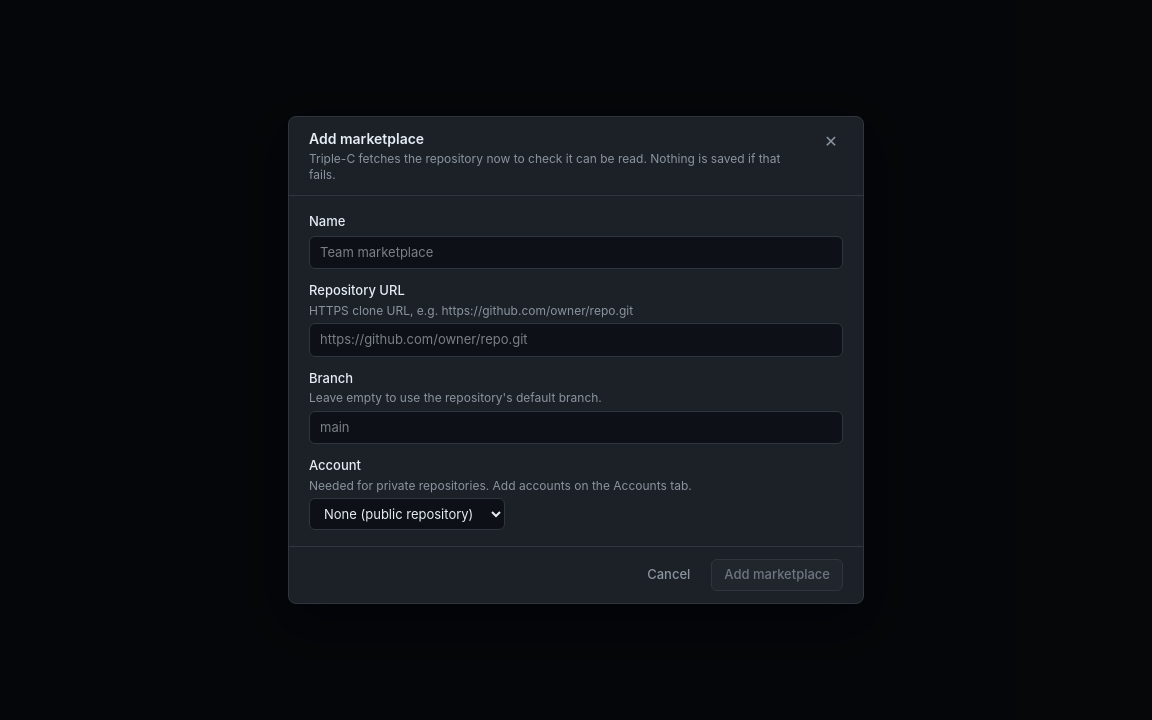
Test: AddMarketplaceModal › shows the backend error and stays open
This screenshot has width=1152, height=720.
Type "x" into the field labelled "Name".
click(576, 252); type("x")  # box [309,236,843,269]
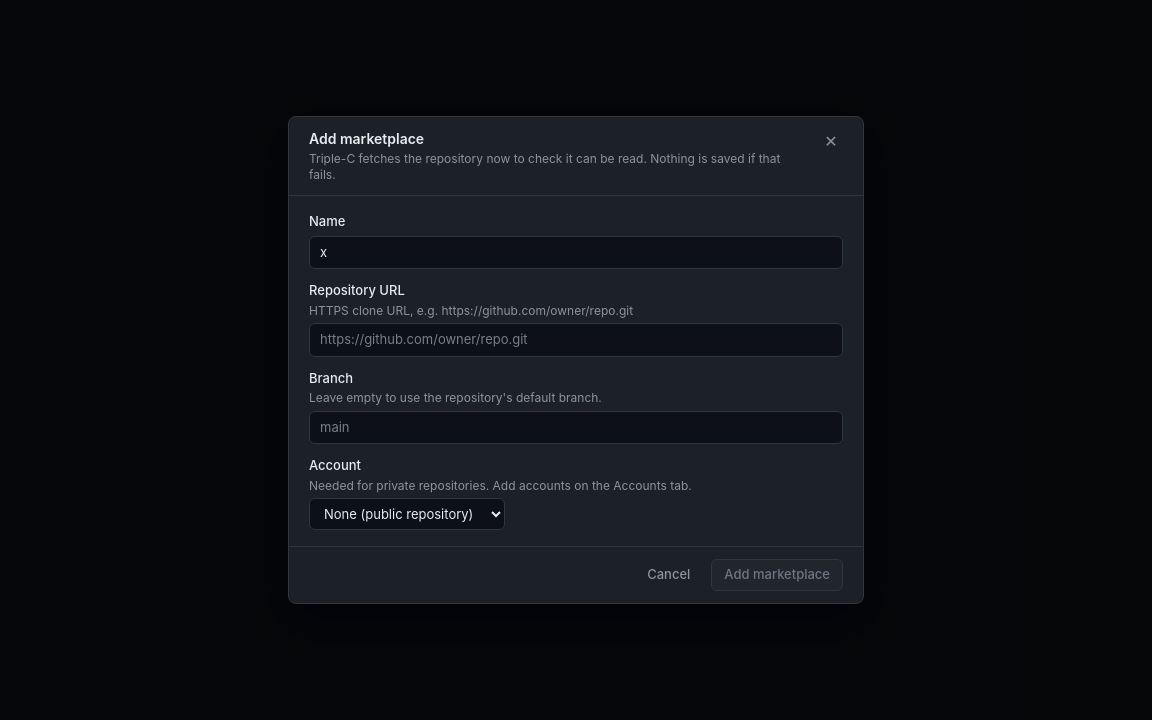
Type "https://github.com/a/b.git" into the field labelled "Repository URL".
click(576, 340); type("https://github.com/a/b.git")  # box [309,323,843,356]
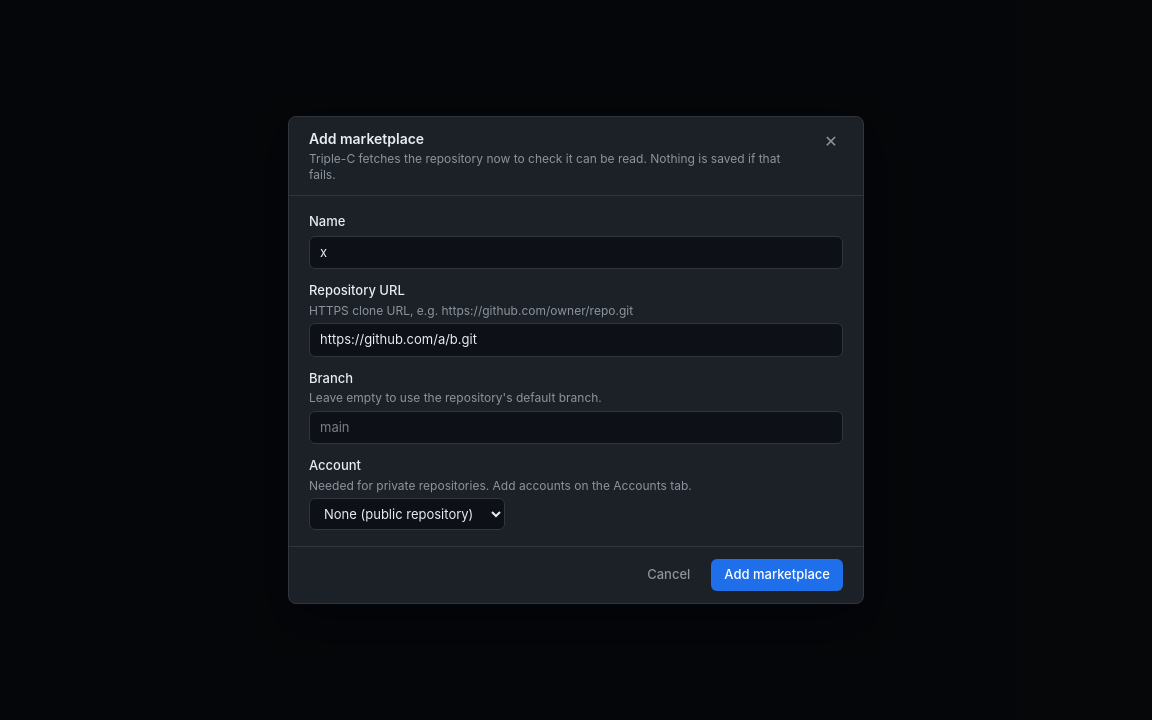
Click the button "Add marketplace".
click(777, 575)  # box [711,559,843,591]
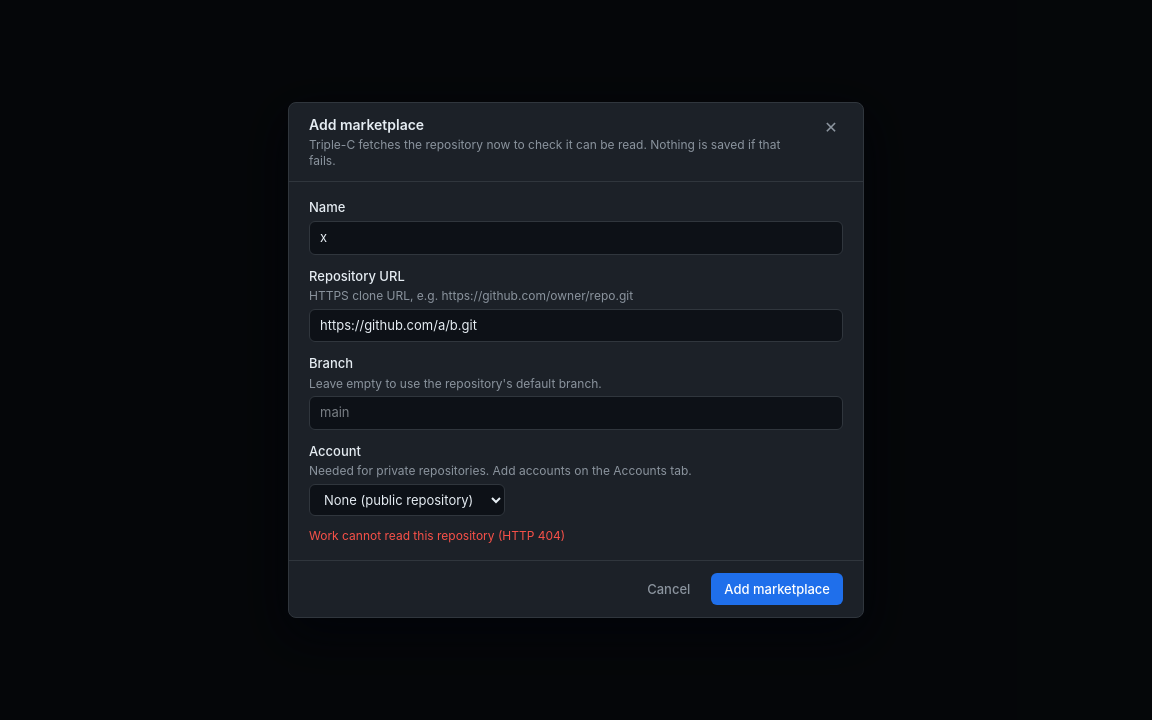
Expected: the text "Work cannot read this repository (HTTP 404)" is shown, [309,528,565,543]
